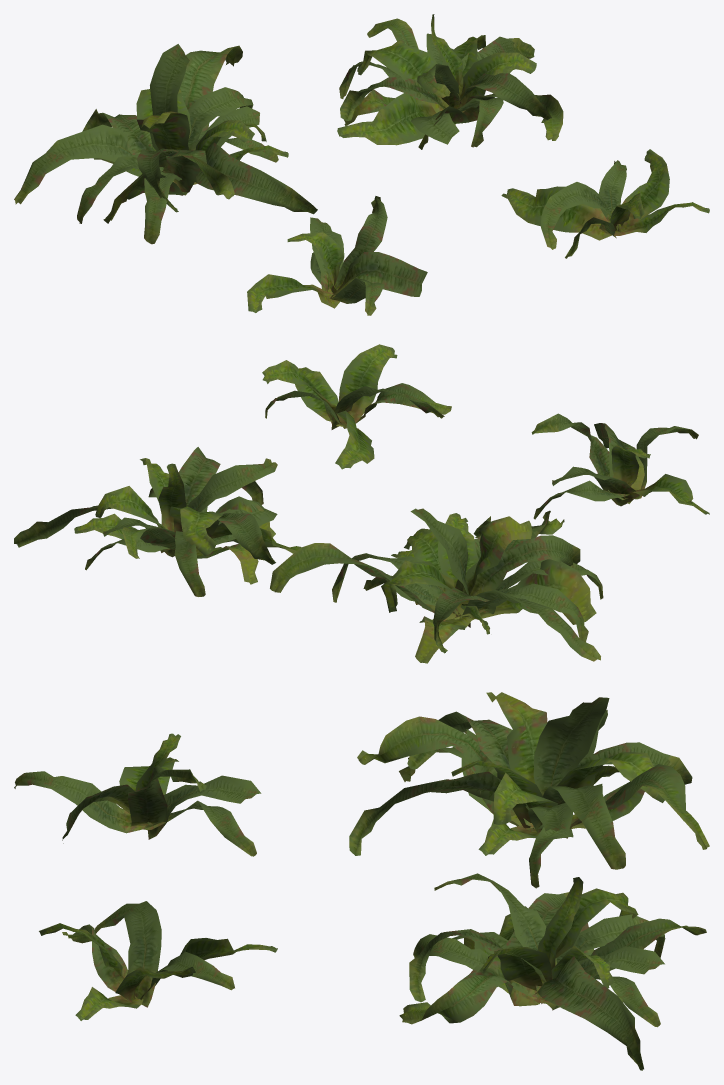
Rendered from ph-fern_02.glb.
3 renders of one model, top to bottom at view 1: azimuth 30°, elevation 25°; view 2: azimuth 150°, elevation 25°; view 3: azimuth 270°, elevation 25°, orthographic. The views are drawn at different scales.
Visible parts, largest first — view 1: fern_02_b; view 2: fern_02_b; view 3: fern_02_b.
Boxes of the visible parts, x1=… form: fern_02_b: x1=14, y1=14, x2=709, y2=315; fern_02_b: x1=14, y1=344, x2=709, y2=663; fern_02_b: x1=14, y1=692, x2=709, y2=1070.
Size of the model in its own units: 1.97 by 0.4277 by 1.72.
Materials: 1 (1 with a texture image).
